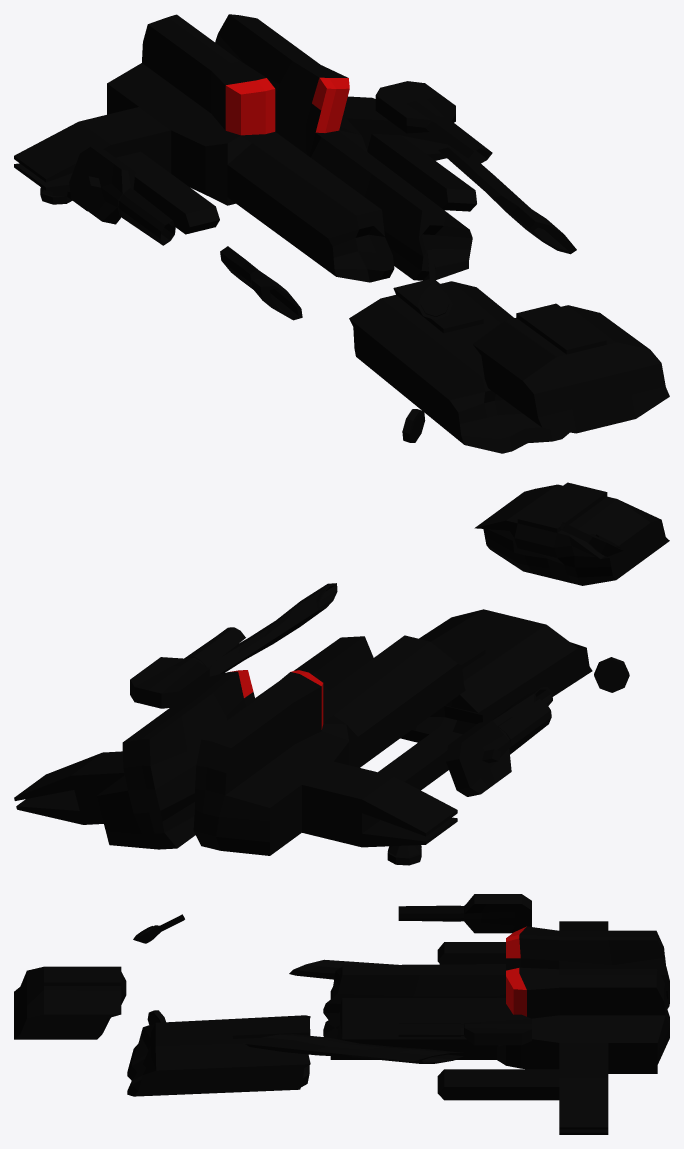
File: RED fraction  MotherShip 1 Broken.fbx
3 views of the same model, one above another, from view 1: azimuth 30°, elevation 25°; view 2: azimuth 150°, elevation 25°; view 3: azimuth 270°, elevation 25° (orthographic). The views are drawn at different scales.
Visible parts, largest first — view 1: Space Ship, Space Ship.003, Space Ship.001, Space Ship.002, GigaTurret.003, GigaTurret, GigaTurret.002, GigaTurret.001, Turret 2 Part 1; view 2: Space Ship, Space Ship.003, Space Ship.002, Space Ship.001, GigaTurret.003, GigaTurret, GigaTurret.002, Turret 2, GigaTurret.001, Turret 2 Part 1; view 3: Space Ship.003, Space Ship, Space Ship.001, Space Ship.002, GigaTurret.003, GigaTurret.002, GigaTurret, GigaTurret.001, Turret 2 Part 1.
Boxes of the visible parts, x1=… form: Space Ship: x1=14, y1=14, x2=394, y2=282; Space Ship.003: x1=215, y1=14, x2=476, y2=280; Space Ship.001: x1=349, y1=279, x2=569, y2=453; Space Ship.002: x1=473, y1=303, x2=669, y2=433; GigaTurret.003: x1=69, y1=147, x2=175, y2=245; GigaTurret: x1=375, y1=81, x2=492, y2=163; GigaTurret.002: x1=438, y1=147, x2=576, y2=254; GigaTurret.001: x1=220, y1=246, x2=302, y2=320; Turret 2 Part 1: x1=417, y1=250, x2=452, y2=320; Space Ship: x1=193, y1=635, x2=465, y2=855; Space Ship.003: x1=14, y1=636, x2=373, y2=849; Space Ship.002: x1=474, y1=482, x2=669, y2=585; Space Ship.001: x1=400, y1=609, x2=592, y2=742; GigaTurret.003: x1=446, y1=699, x2=551, y2=796; GigaTurret: x1=130, y1=627, x2=245, y2=708; GigaTurret.002: x1=208, y1=583, x2=337, y2=676; Turret 2: x1=594, y1=657, x2=629, y2=692; GigaTurret.001: x1=492, y1=687, x2=552, y2=727; Turret 2 Part 1: x1=559, y1=522, x2=623, y2=556; Space Ship.003: x1=323, y1=967, x2=669, y2=1134; Space Ship: x1=323, y1=921, x2=669, y2=1019; Space Ship.001: x1=127, y1=1015, x2=310, y2=1096; Space Ship.002: x1=14, y1=966, x2=126, y2=1039; GigaTurret.003: x1=398, y1=894, x2=531, y2=933; GigaTurret.002: x1=245, y1=1034, x2=471, y2=1063; GigaTurret: x1=398, y1=1014, x2=531, y2=1046; GigaTurret.001: x1=289, y1=959, x2=398, y2=979; Turret 2 Part 1: x1=133, y1=914, x2=184, y2=943.
Bounding box in the file's own units: 22548 × 9648 × 40003.
